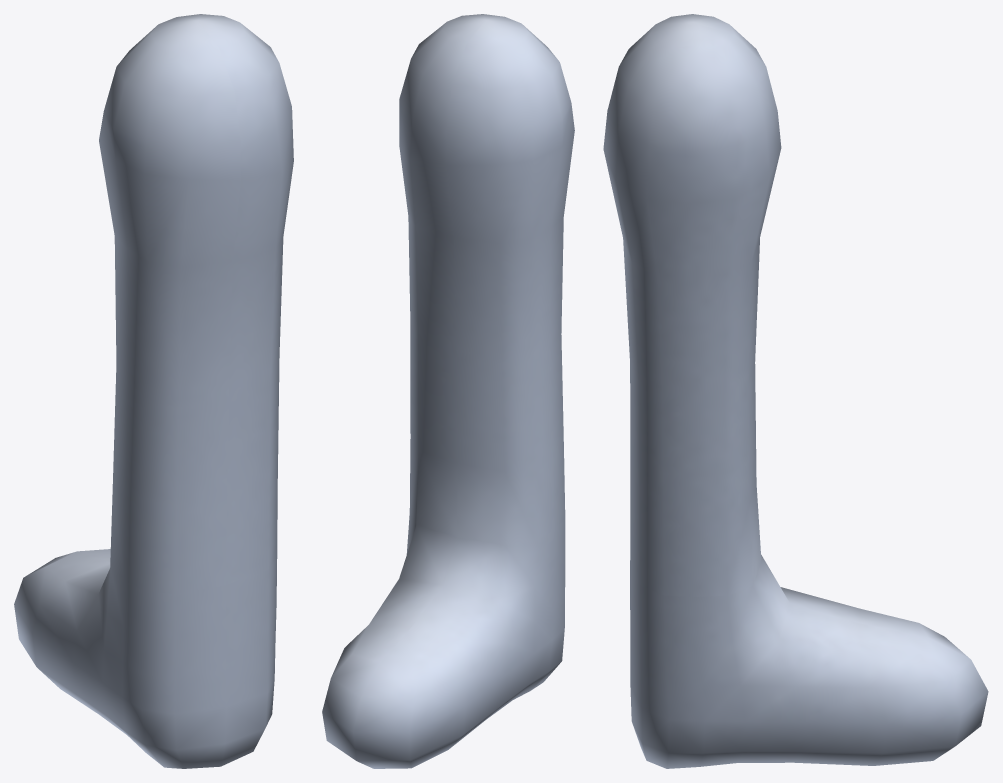
Rendered from Leg.obj.
3 renders of one model, left to right at view 1: azimuth 30°, elevation 25°; view 2: azimuth 150°, elevation 25°; view 3: azimuth 270°, elevation 25°, orthographic. The views are drawn at different scales.
Visible parts, largest first — view 1: Leg; view 2: Leg; view 3: Leg.
Part boxes in pixels (x1=…): Leg: x1=14, y1=14, x2=293, y2=768; Leg: x1=322, y1=14, x2=574, y2=768; Leg: x1=603, y1=14, x2=988, y2=768.
Bounding box in the file's own units: 0.1889 × 0.7878 × 0.3744.
1 material, 1 textured.
